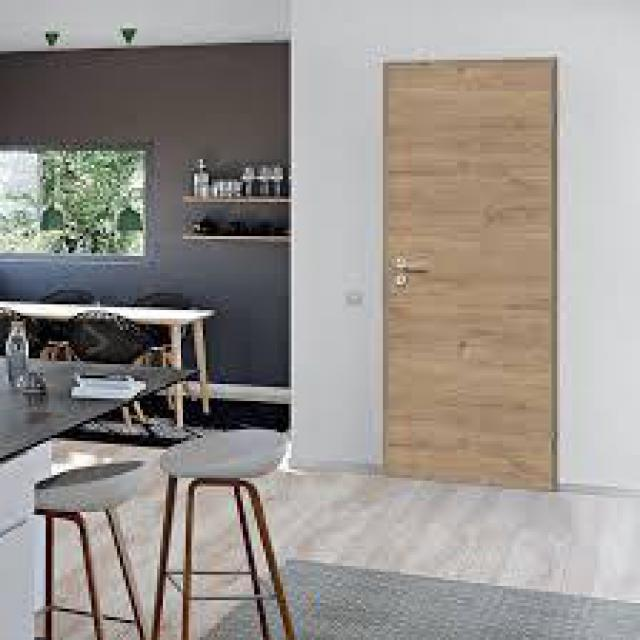close: (360, 43, 577, 506)
